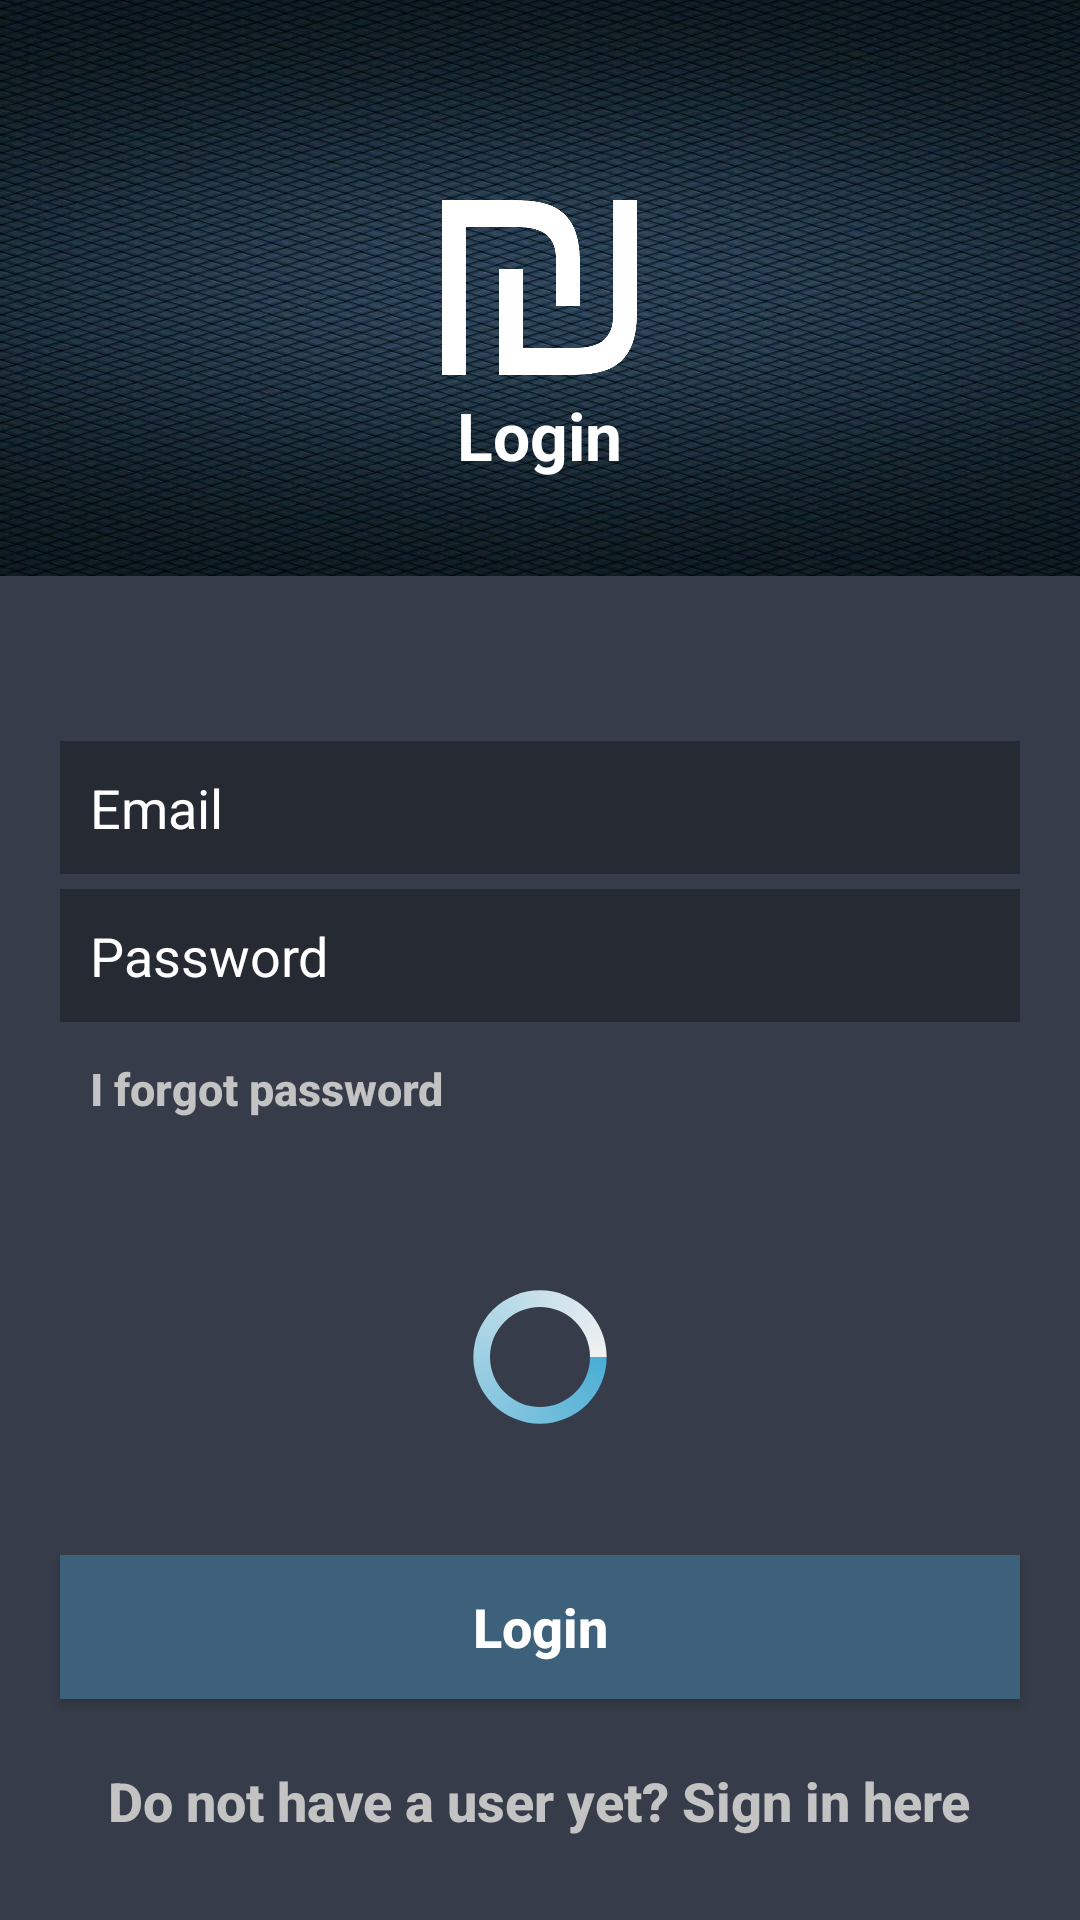

Named icons in this screenshot (1080 × 1920) and their bounding boxes, (x1, y1, x2, y2):
ils: (442, 190, 637, 385)
